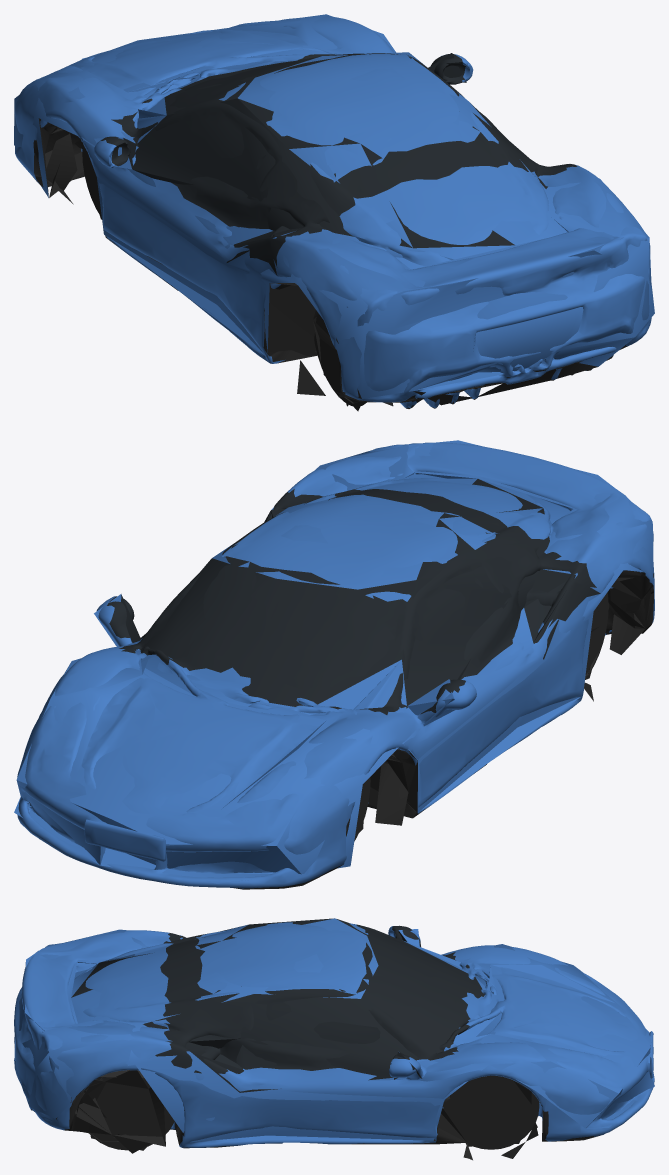
The model's file is ferrari-488-pista.glb.
3 renders of one model, top to bottom at view 1: azimuth 30°, elevation 25°; view 2: azimuth 150°, elevation 25°; view 3: azimuth 270°, elevation 25°, orthographic. The views are drawn at different scales.
Parts seen in each view (by area): view 1: body, far; view 2: body, far; view 3: body, far.
Boxes of the visible parts, box(x1,y1,x2,y2) form: body: box(14, 16, 651, 408); far: box(14, 14, 654, 411); body: box(17, 442, 654, 889); far: box(14, 440, 653, 883); body: box(14, 922, 654, 1160); far: box(14, 918, 654, 1150).
Size of the model in its own units: 2.38 by 1.29 by 4.57.
